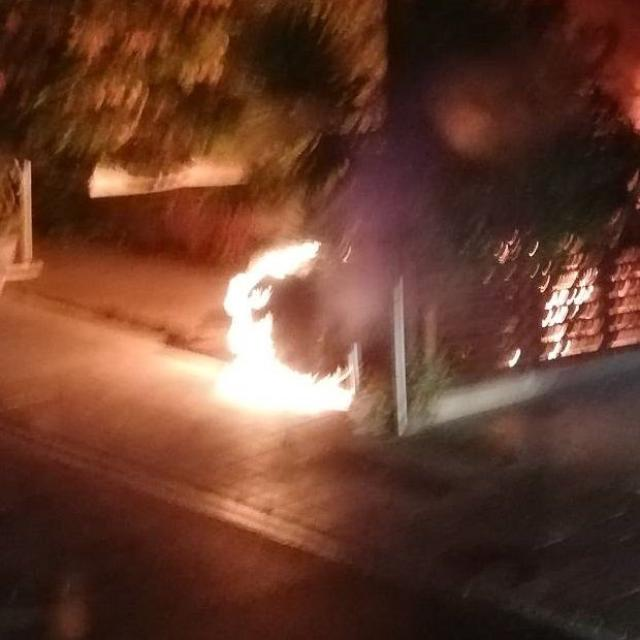Fire: (226, 227, 375, 402)
